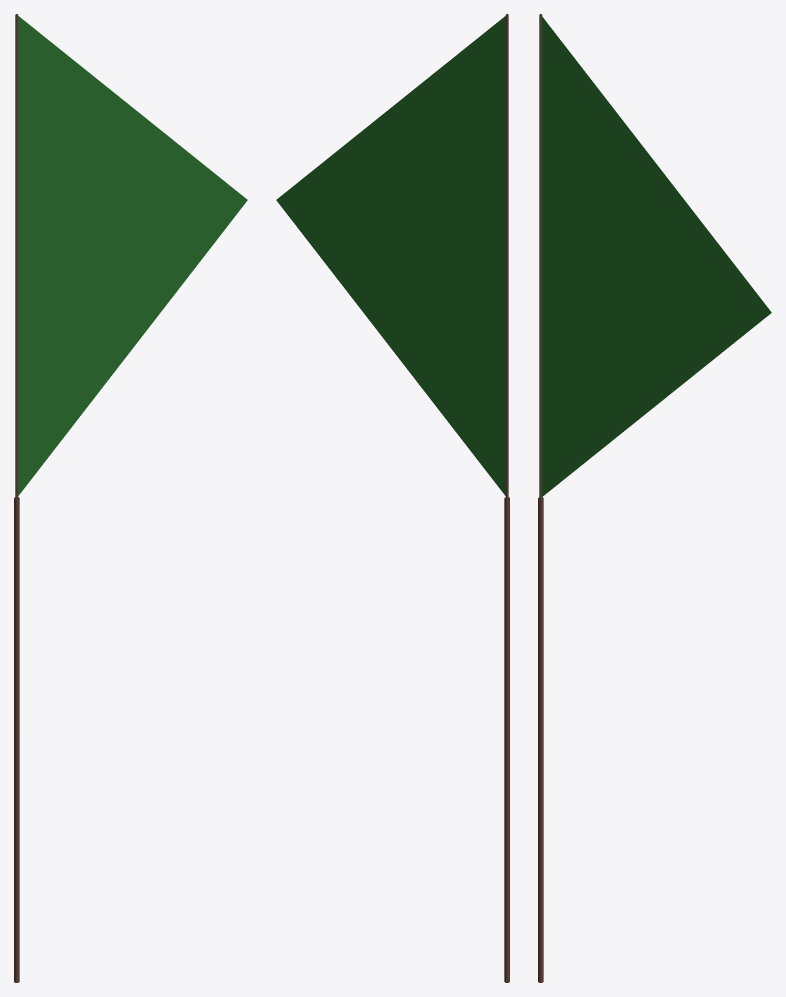
Rendered from two-colors.gltf.
3 renders of one model, left to right at view 1: azimuth 30°, elevation 25°; view 2: azimuth 150°, elevation 25°; view 3: azimuth 330°, elevation 25°, orthographic.
Bounding box in the file's own units: 0.5052 × 2 × 0.0103.
